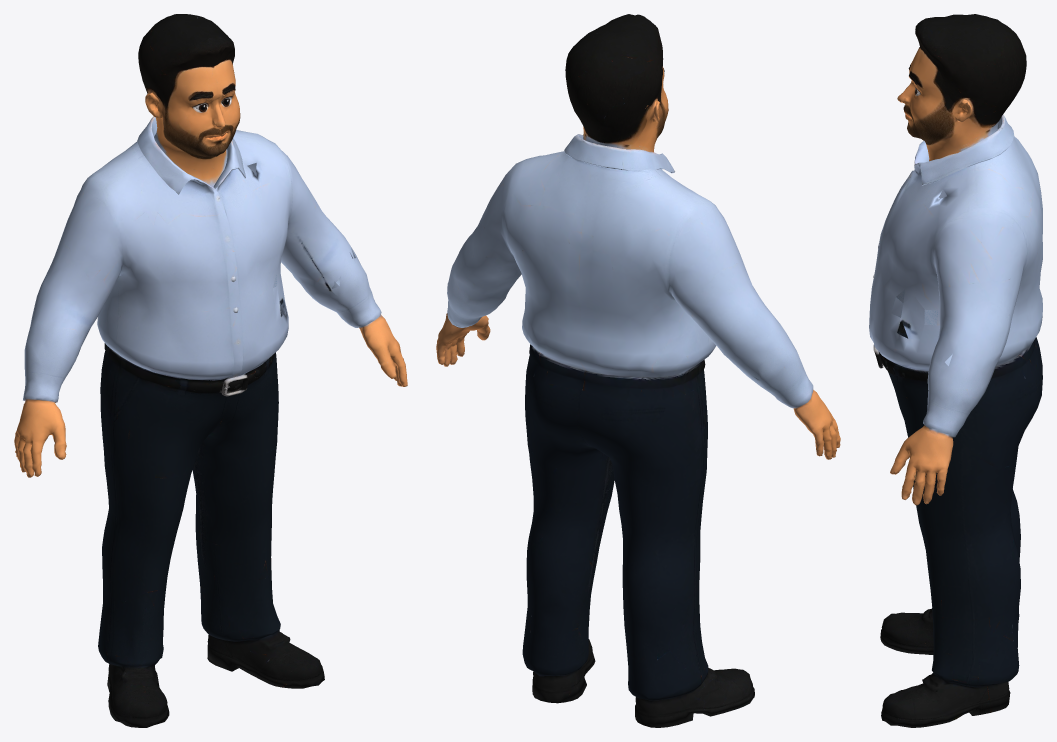
Rendered from AbdullahEkinci_MeshyPro.obj.
3 views of the same model, side by side, from view 1: azimuth 30°, elevation 25°; view 2: azimuth 150°, elevation 25°; view 3: azimuth 270°, elevation 25° (orthographic). The views are drawn at different scales.
Visible parts, largest first — view 1: AbdullahEkinci; view 2: AbdullahEkinci; view 3: AbdullahEkinci.
Boxes of the visible parts, left/top/right/bottom form: AbdullahEkinci: left=14, top=14, right=407, bottom=727; AbdullahEkinci: left=436, top=14, right=840, bottom=727; AbdullahEkinci: left=869, top=14, right=1042, bottom=727.
Bounding box in the file's own units: 1.1 × 1.8 × 0.4316.
